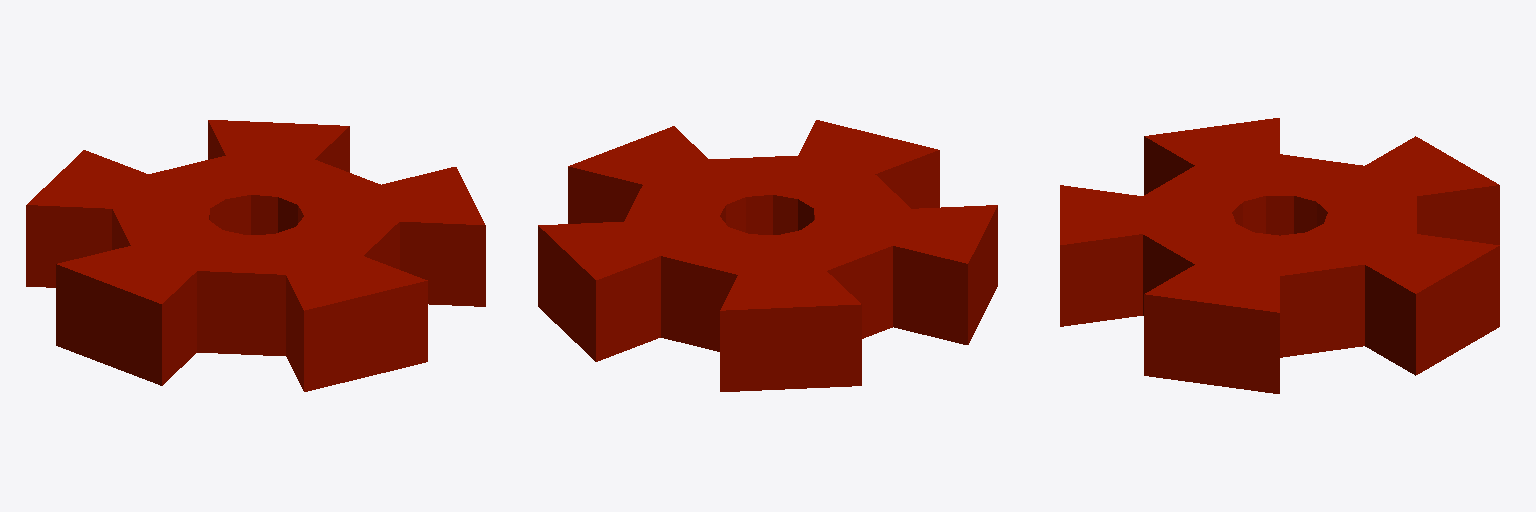
Rendered from gear.obj.
3 views of the same model, side by side, from view 1: azimuth 30°, elevation 25°; view 2: azimuth 150°, elevation 25°; view 3: azimuth 270°, elevation 25° (orthographic).
Parts seen in each view (by area): view 1: pCylinder3; view 2: pCylinder3; view 3: pCylinder3.
Part boxes in pixels (left/top/right/bottom): pCylinder3: left=26, top=120, right=485, bottom=391; pCylinder3: left=538, top=120, right=997, bottom=391; pCylinder3: left=1060, top=118, right=1499, bottom=393.
Bounding box in the file's own units: 3.2 × 0.6235 × 3.04.